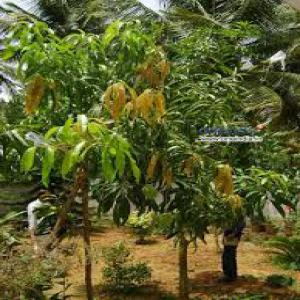Tree: (5, 11, 286, 290)
